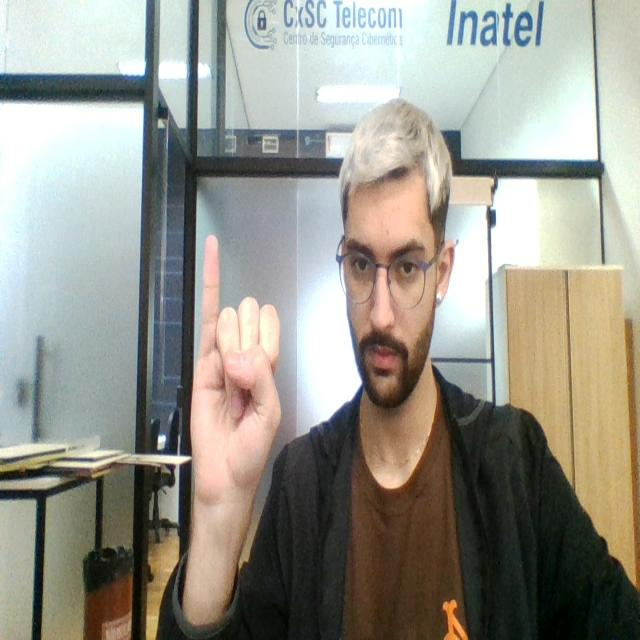I: (188, 231, 283, 535)
